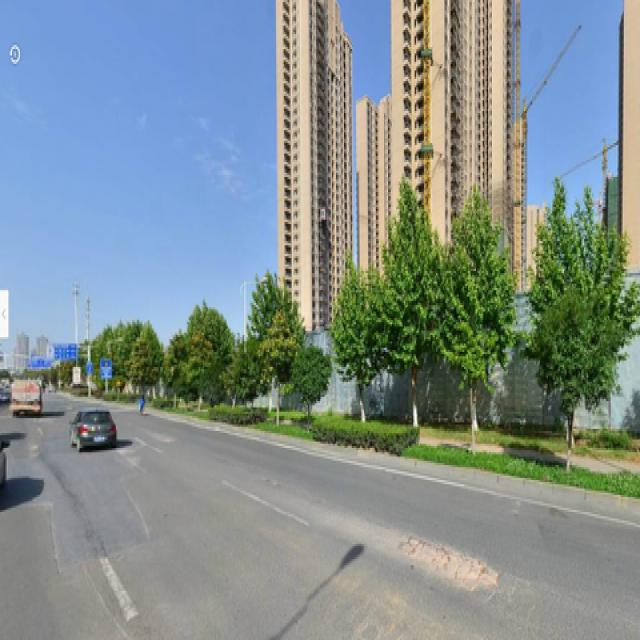meta: (452, 198, 500, 429), (384, 205, 437, 407), (334, 275, 374, 416)
